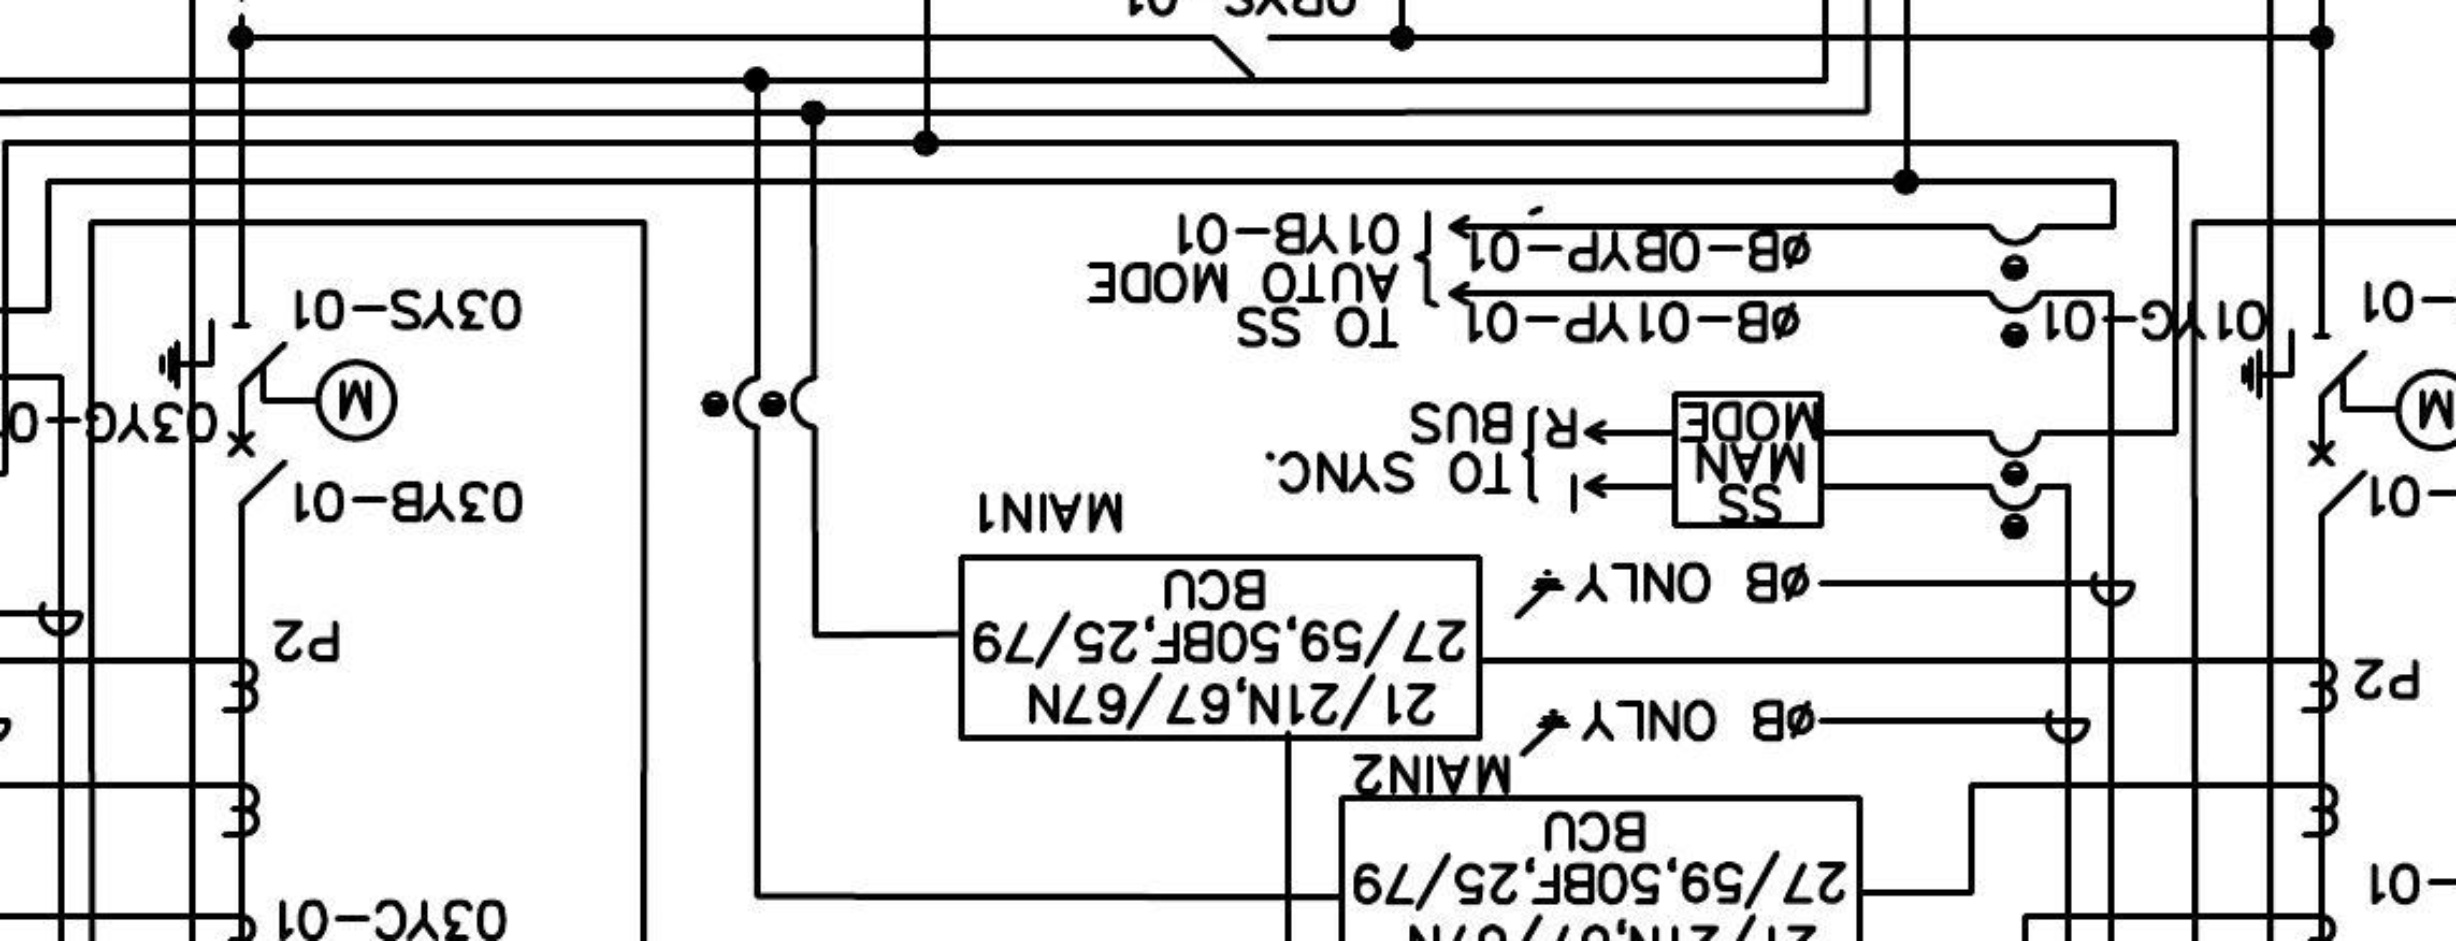115_3ways_ds_w_motor: (157, 317, 401, 445)
115_breaker: (2306, 439, 2371, 518), (226, 429, 290, 507)
115_ds: (1211, 33, 1276, 77)
ss_man_mode: (1669, 389, 1827, 531)
